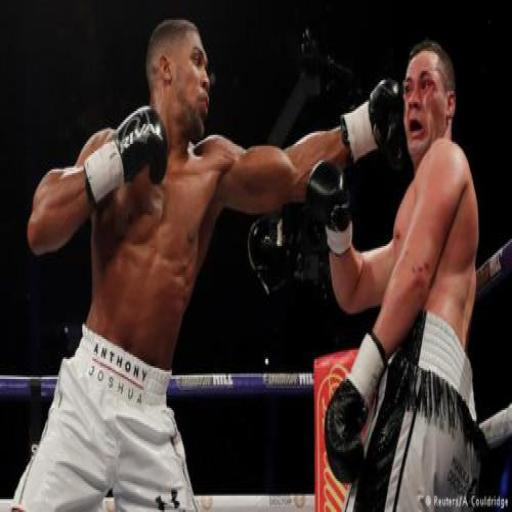boxing: (9, 16, 405, 510), (292, 55, 512, 490)
